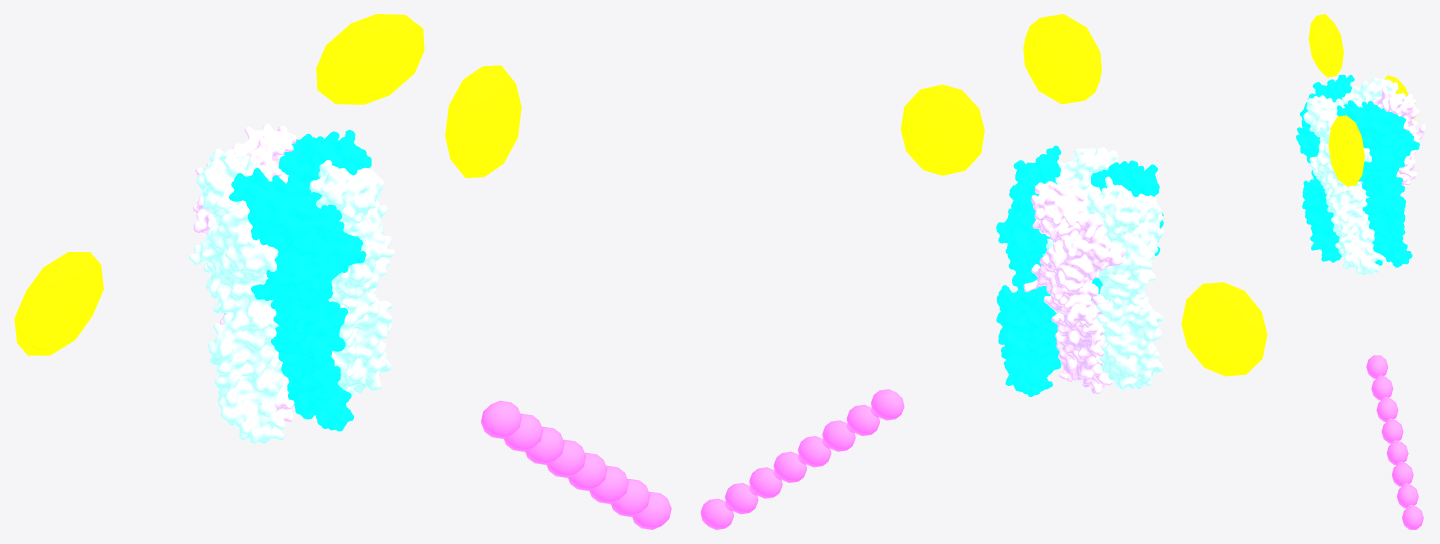
Rendered from heart-micro.glb.
The picture shows the model from 3 angles, left to right: view 1: azimuth 30°, elevation 25°; view 2: azimuth 150°, elevation 25°; view 3: azimuth 270°, elevation 25°; orthographic projection. The views are drawn at different scales.
Visible parts, largest first — view 1: Object_12, Object_6, Object_8, MisfoldedMonomer_2, MisfoldedMonomer_0, MisfoldedMonomer_1, Object_10, Object_4, AmyloidChain_0, AmyloidChain_1, AmyloidChain_5, AmyloidChain_2 (+4 smaller); view 2: Object_10, Object_6, Object_4, MisfoldedMonomer_1, MisfoldedMonomer_0, MisfoldedMonomer_2, Object_12, Object_8, AmyloidChain_0, AmyloidChain_6, AmyloidChain_2, AmyloidChain_3 (+4 smaller); view 3: Object_4, Object_8, Object_12, MisfoldedMonomer_0, MisfoldedMonomer_2, Object_10, Object_6, AmyloidChain_7, AmyloidChain_1, AmyloidChain_4, AmyloidChain_6, AmyloidChain_2 (+4 smaller).
Boxes of the visible parts, <box> form: Object_12: <box>229,168,366,431</box>; Object_6: <box>189,148,284,443</box>; Object_8: <box>309,160,394,396</box>; MisfoldedMonomer_2: <box>316,14,424,104</box>; MisfoldedMonomer_0: <box>445,65,521,177</box>; MisfoldedMonomer_1: <box>14,252,103,355</box>; Object_10: <box>192,124,296,421</box>; Object_4: <box>278,129,371,192</box>; AmyloidChain_0: <box>481,400,521,438</box>; AmyloidChain_1: <box>503,413,542,451</box>; AmyloidChain_5: <box>589,465,628,503</box>; AmyloidChain_2: <box>525,426,564,464</box>; Object_10: <box>1023,179,1125,393</box>; Object_6: <box>1087,176,1164,390</box>; Object_4: <box>996,145,1062,396</box>; MisfoldedMonomer_1: <box>1181,282,1267,376</box>; MisfoldedMonomer_0: <box>900,84,984,175</box>; MisfoldedMonomer_2: <box>1023,14,1101,104</box>; Object_12: <box>1091,160,1163,300</box>; Object_8: <box>1055,147,1118,200</box>; AmyloidChain_0: <box>871,389,904,420</box>; AmyloidChain_6: <box>725,483,758,514</box>; AmyloidChain_2: <box>822,420,855,451</box>; AmyloidChain_3: <box>798,436,831,467</box>; Object_4: <box>1337,100,1419,267</box>; Object_8: <box>1303,95,1384,274</box>; Object_12: <box>1296,74,1354,262</box>; MisfoldedMonomer_0: <box>1328,115,1364,186</box>; MisfoldedMonomer_2: <box>1308,14,1343,77</box>; Object_10: <box>1361,87,1425,185</box>; Object_6: <box>1341,77,1398,185</box>; AmyloidChain_7: <box>1402,506,1423,529</box>; AmyloidChain_1: <box>1371,376,1393,400</box>; AmyloidChain_4: <box>1386,441,1408,465</box>; AmyloidChain_6: <box>1397,484,1418,508</box>; AmyloidChain_2: <box>1376,398,1398,421</box>.
Size of the model in its own units: 4.72 by 4.41 by 1.28.
